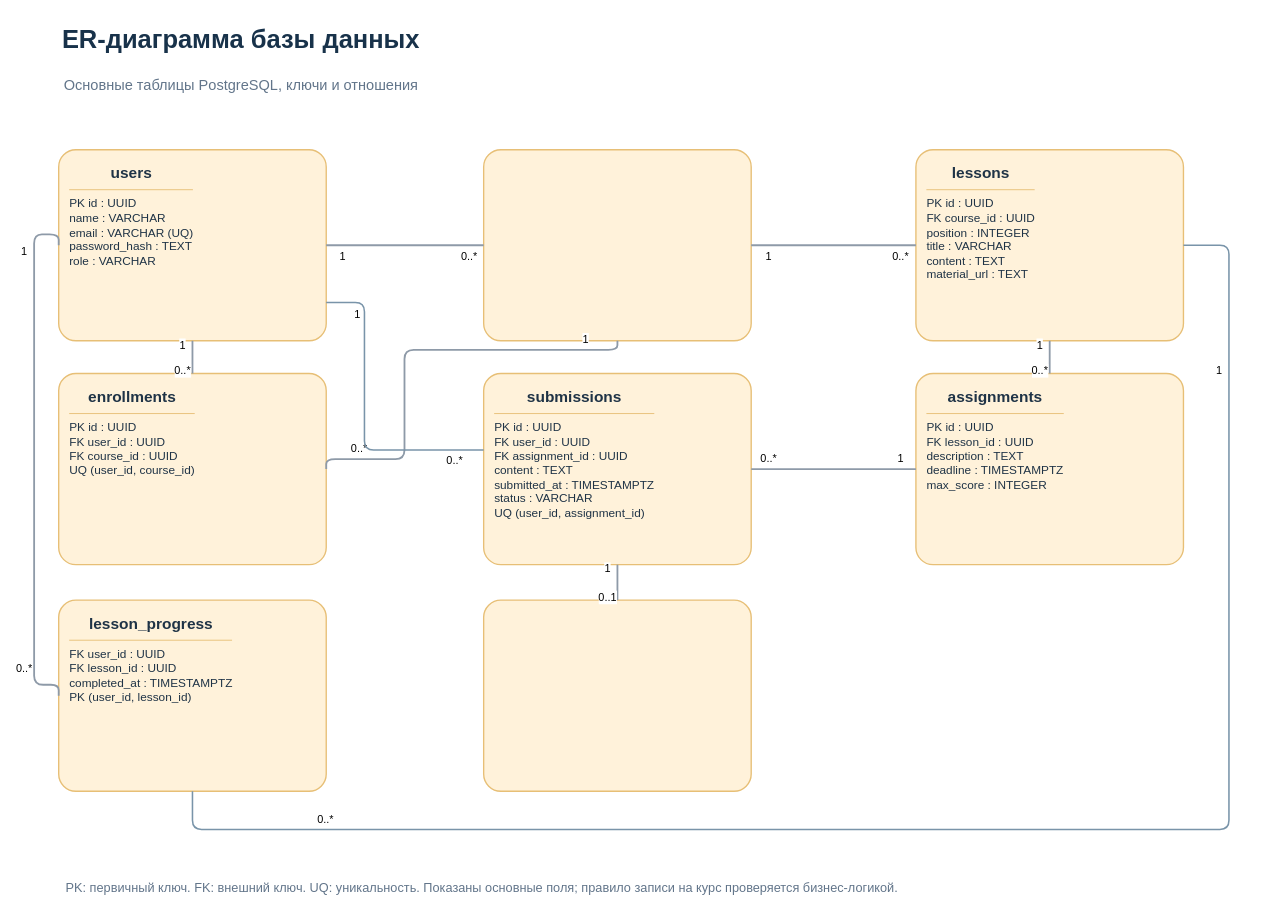
This 1269x923 diagram has some shape labels left out. The shapes that lost their labels are listed below. From the top down, each one's centre as x and y in pixels, then its label:
point (617, 245): courses PK id : UUID FK owner_id : UUID title : VARCHAR published : BOOLEAN
point (617, 695): grades PK id : UUID FK submission_id : UUID (UQ) score : INTEGER comment : TEXT
